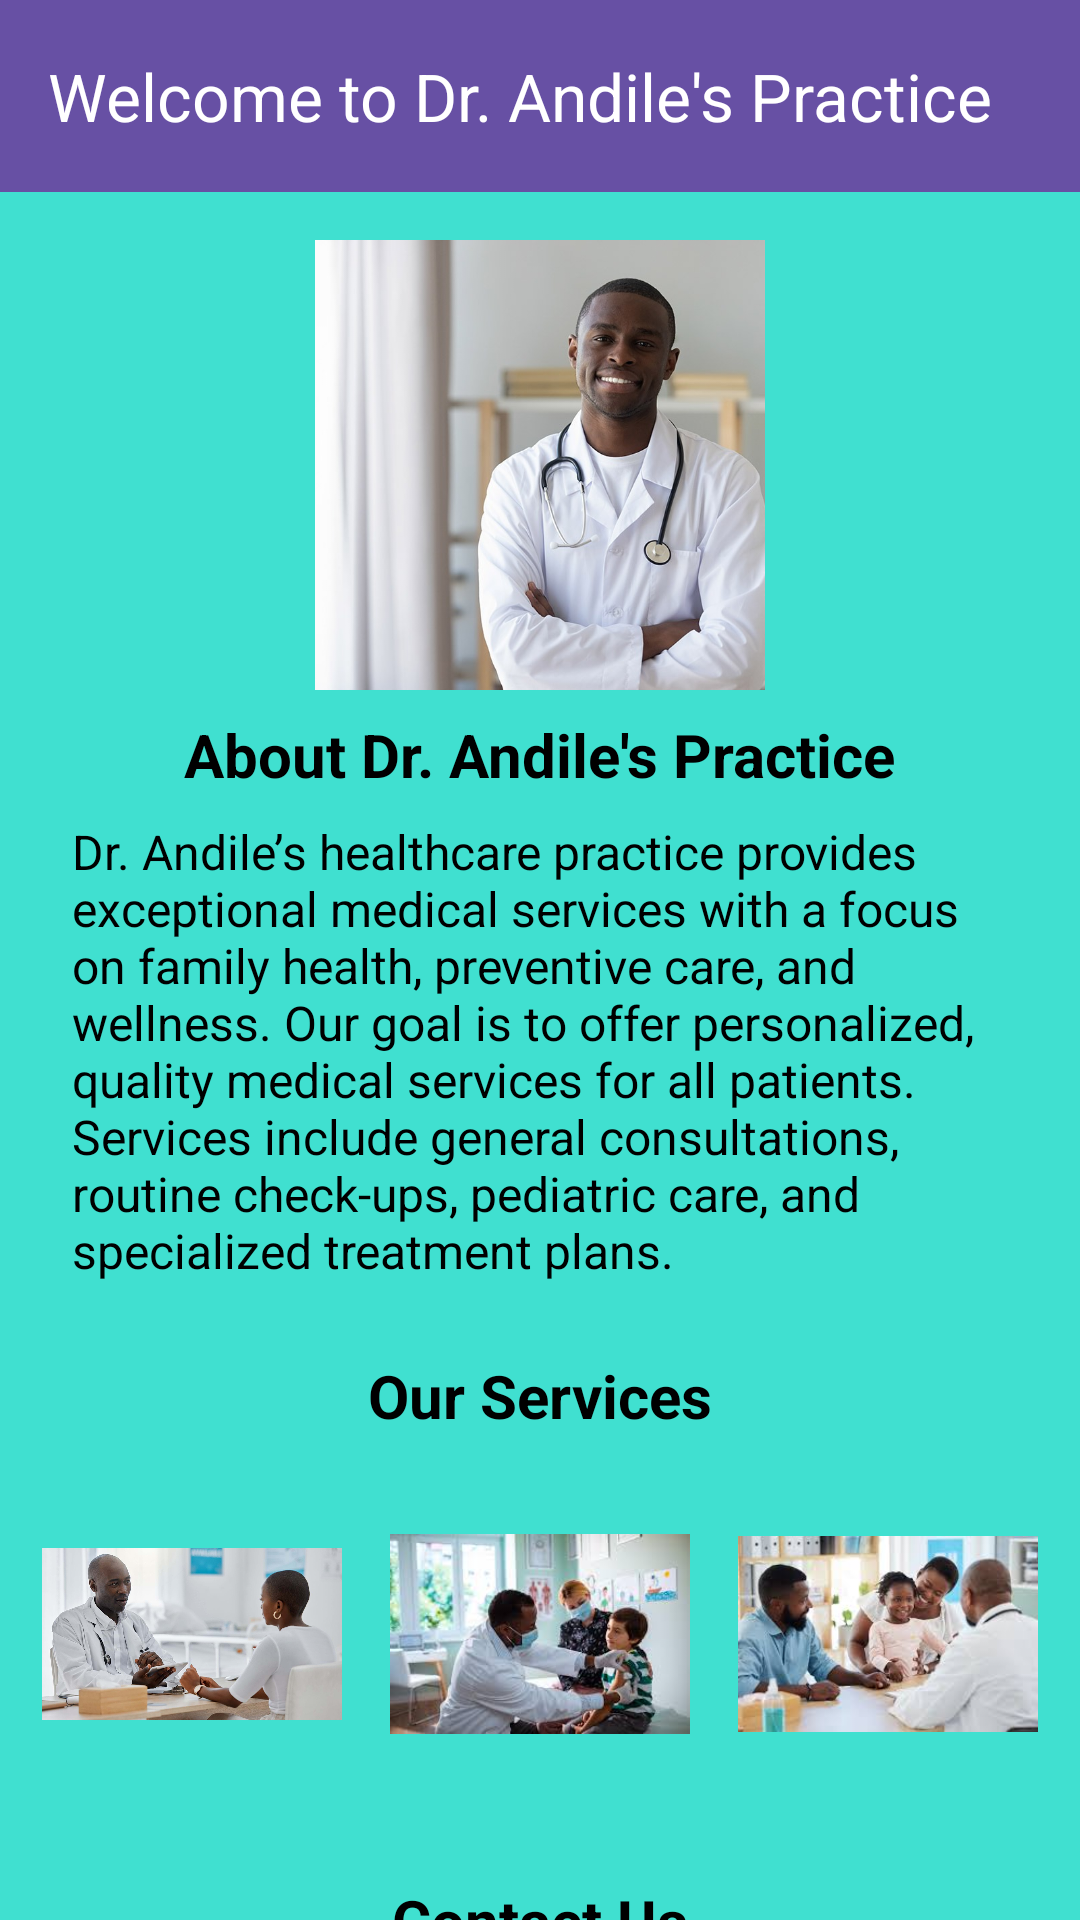

Screen size 1080 x 1920. Icon name, then its box in pixels as {"x1": x1, "y1": y1, "x2": x2, "y2": y2}:
General Consultation: {"x1": 42, "y1": 1548, "x2": 342, "y2": 1720}
Pediatric Care: {"x1": 390, "y1": 1534, "x2": 690, "y2": 1734}
Wellness Checkups: {"x1": 738, "y1": 1536, "x2": 1038, "y2": 1732}
